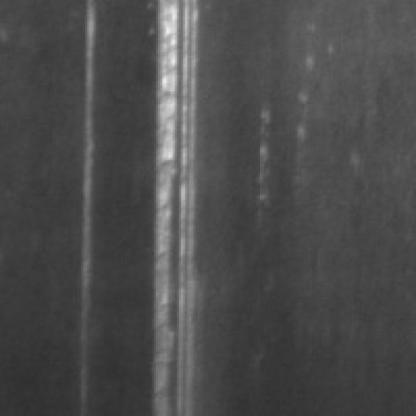scratches: (150, 4, 208, 416), (79, 4, 104, 360)
